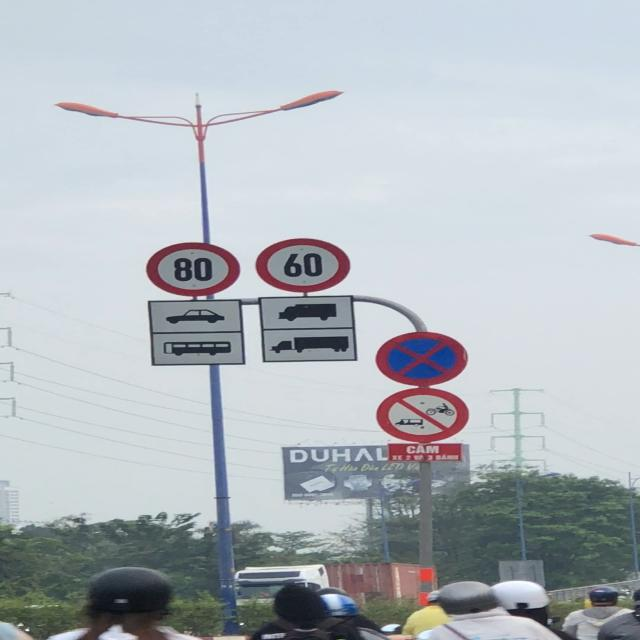Bien bao cam dung xe va do xe: (374, 331, 470, 386)
Bien bao toc do toi da cho phep: (144, 242, 243, 298), (256, 237, 352, 292)
